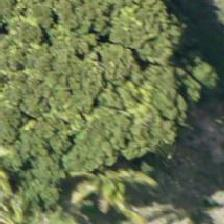coconut_tree: (60, 135, 150, 223)
